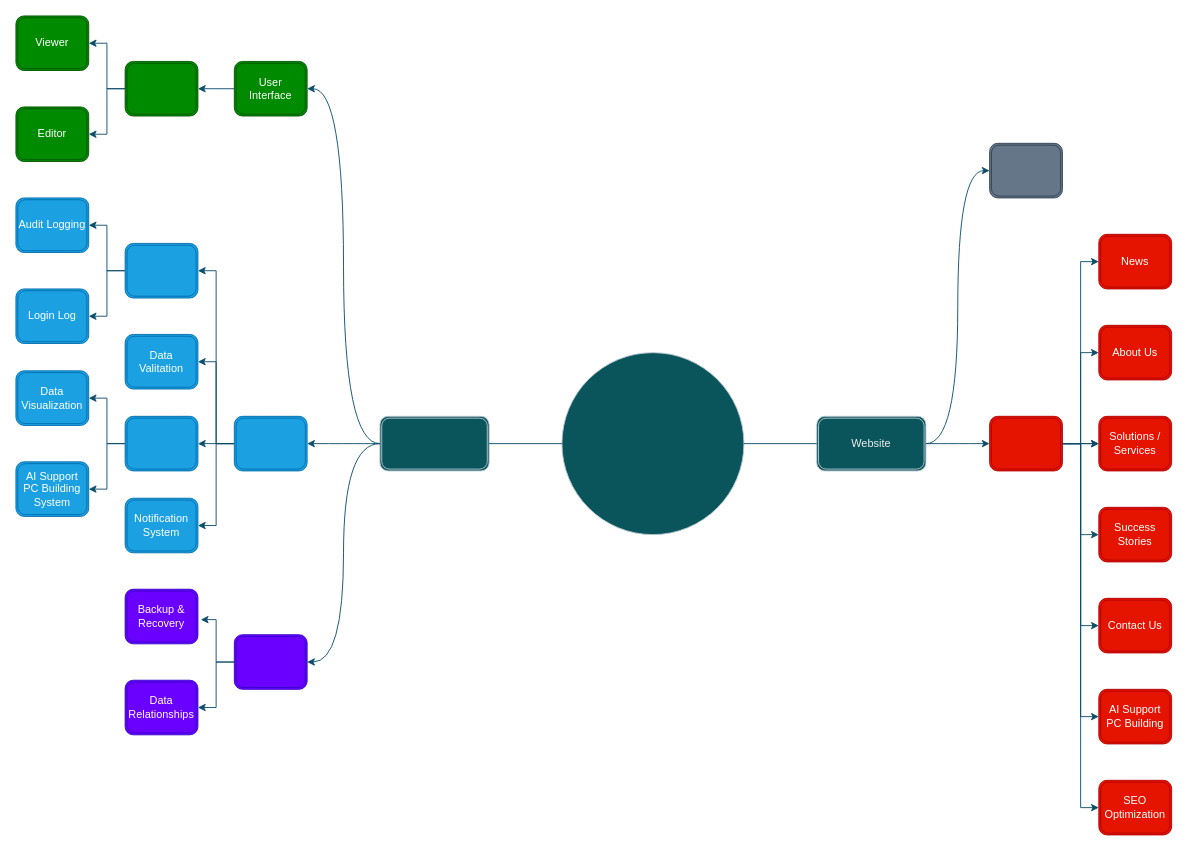
This 1188x851 diagram has some shape labels left out. Here are the shapes that lost their labels. From the top down, the centre of each, then its label:
At pixel 161 88: "Identity".
At pixel 1025 170: "ERP Login Page".
At pixel 161 270: "Security".
At pixel 161 443: "Report Engine".
At pixel 270 443: "Process Function".
At pixel 434 443: "ERP".
At pixel 652 443: "Ltd. YYCI ERP & Branding Website".
At pixel 1025 443: "Corporate Branding Page".
At pixel 270 661: "DataBase".
